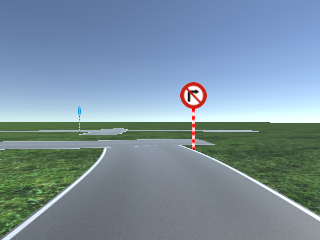-5: (1, 197, 320, 239)
NoRight: (180, 82, 207, 109)
